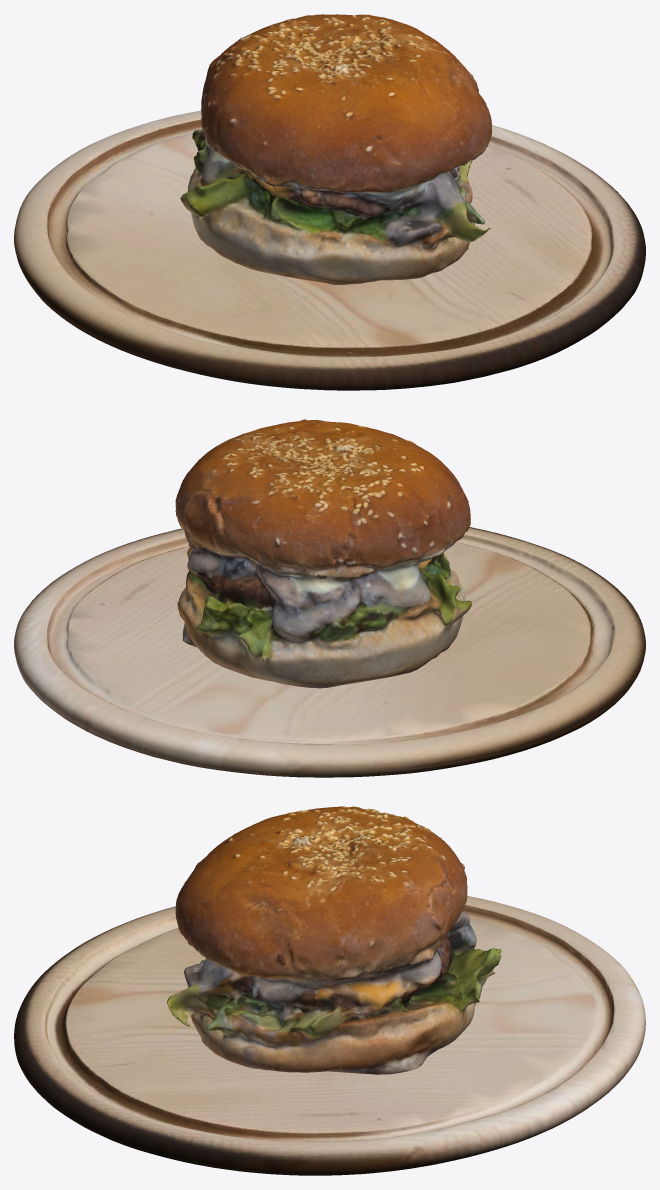
Rendered from mushroom.burger.glb.
3 renders of one model, top to bottom at view 1: azimuth 30°, elevation 25°; view 2: azimuth 150°, elevation 25°; view 3: azimuth 270°, elevation 25°, orthographic.
Visible parts, largest first — view 1: Submesh_0.001, 3DModel; view 2: Submesh_0.001, 3DModel; view 3: Submesh_0.001, 3DModel.
Boxes of the visible parts, x1,y1,x2,y2 form: Submesh_0.001: (14, 110, 645, 390); 3DModel: (180, 14, 492, 284); Submesh_0.001: (14, 527, 645, 777); 3DModel: (175, 419, 471, 688); Submesh_0.001: (14, 896, 645, 1175); 3DModel: (167, 806, 501, 1074).
Bounding box in the file's own units: 0.2887 × 0.107 × 0.2886.
Materials: 2 (2 with a texture image).
